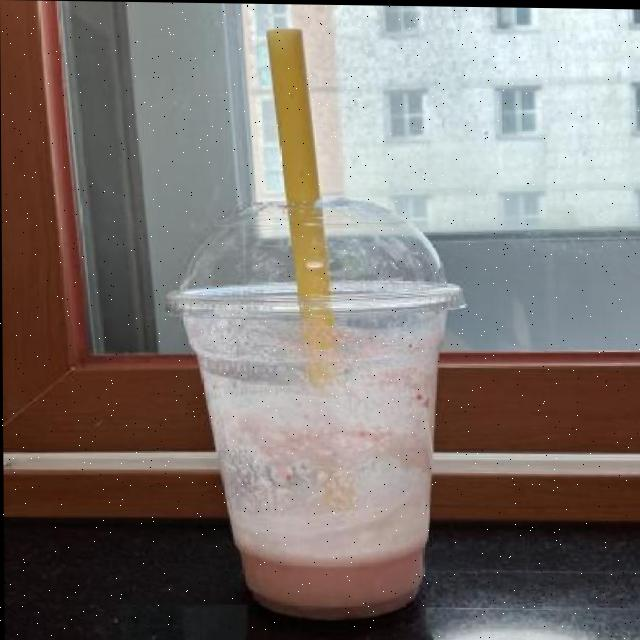cup: (129, 183, 496, 639)
